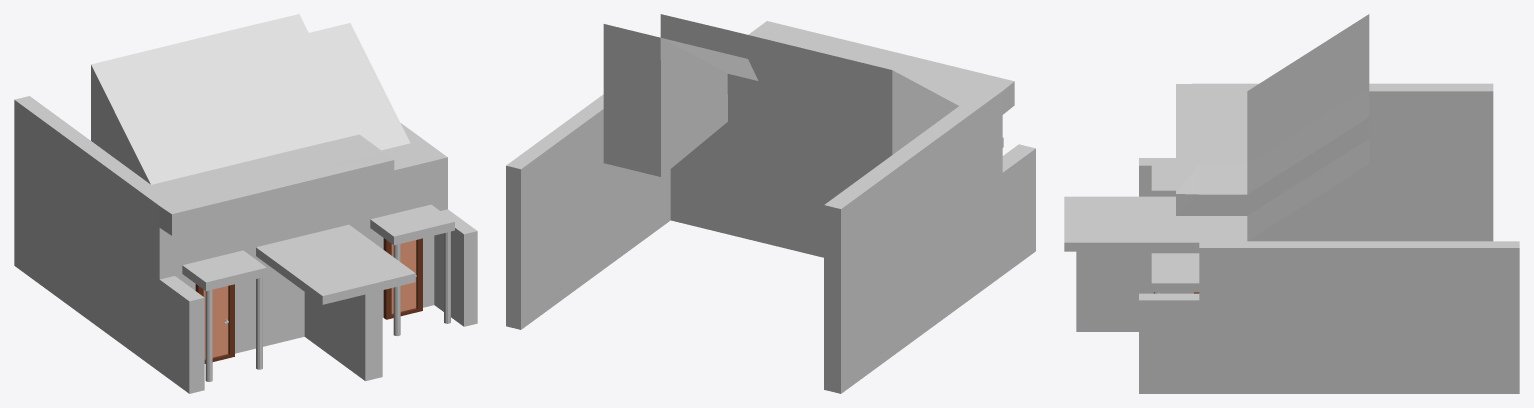
Rendered from house_3.dae.
The picture shows the model from 3 angles, left to right: view 1: azimuth 30°, elevation 25°; view 2: azimuth 150°, elevation 25°; view 3: azimuth 270°, elevation 25°; orthographic projection. The views are drawn at different scales.
Parts seen in each view (by area): view 1: Cube.037, Cube.040, Cube.039, Cube.042, Cylinder.013, Door.010, Cylinder.015, Door.012, Door.011, Door.009; view 2: Cube.037; view 3: Cube.037, Cube.040, Cube.042, Cube.039.
Part boxes in pixels (x1,y1,x2,y2): Cube.037: [14, 14, 477, 393]; Cube.040: [256, 224, 415, 304]; Cube.039: [182, 250, 266, 291]; Cube.042: [370, 204, 454, 245]; Cylinder.013: [205, 277, 262, 381]; Door.010: [203, 286, 228, 359]; Cylinder.015: [393, 231, 450, 336]; Door.012: [391, 240, 416, 313]; Door.011: [383, 238, 422, 319]; Door.009: [195, 284, 234, 363]; Cube.037: [506, 14, 1035, 393]; Cube.037: [1076, 14, 1519, 393]; Cube.040: [1064, 196, 1199, 251]; Cube.042: [1151, 253, 1199, 292]; Cube.039: [1151, 160, 1175, 196].
Size of the model in its own units: 7.28 by 9.84 by 5.86.
